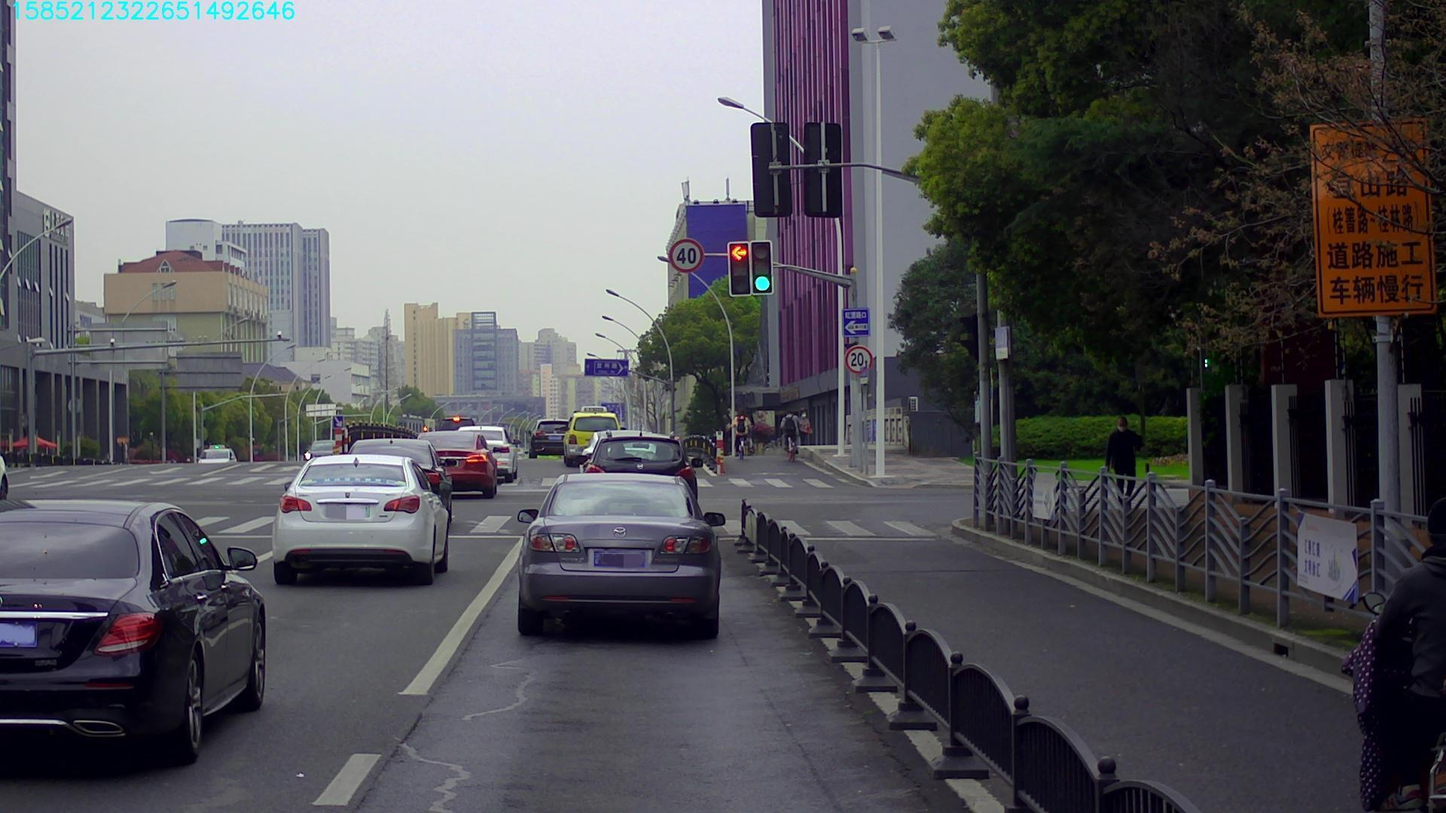green: (750, 241, 773, 292)
red: (728, 242, 750, 295)
